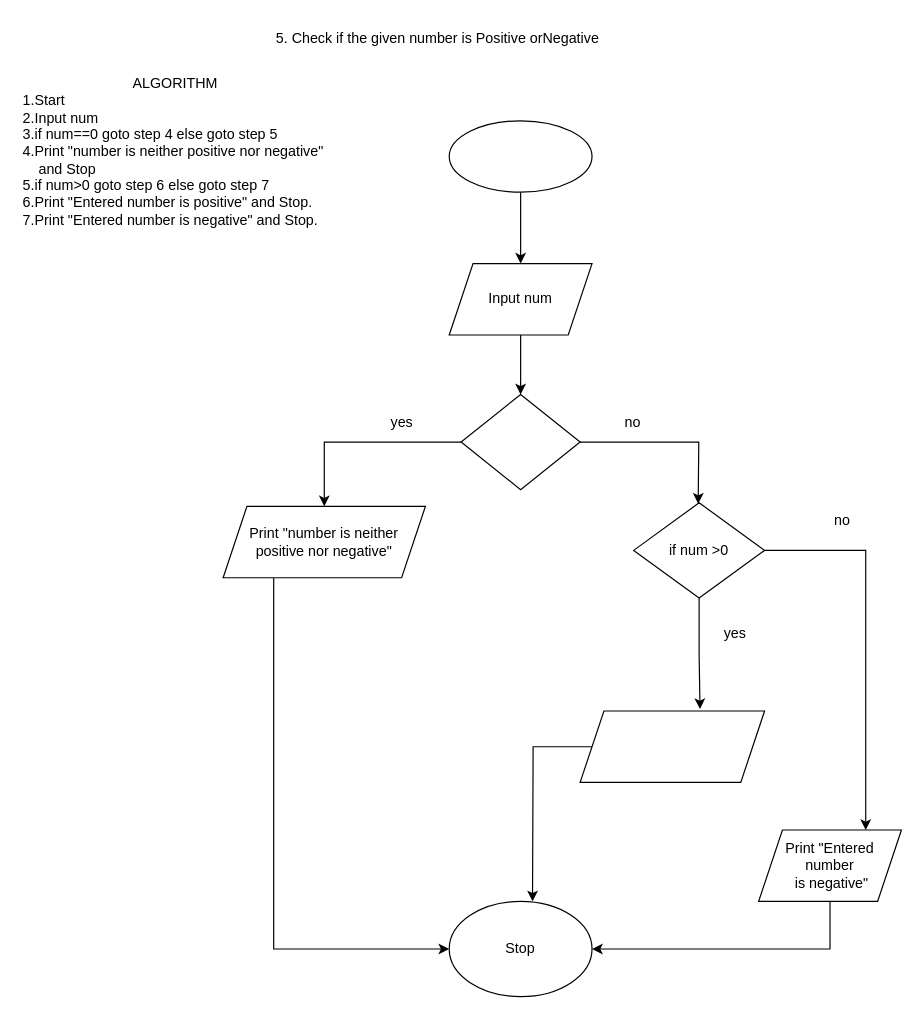
This 922x1017 diagram has some shape labels left out. Each missing label, with the box of its shape:
if num==0: (460, 393, 580, 490)
Print "Entered number is positive": (579, 710, 765, 782)
Start: (448, 120, 592, 192)
